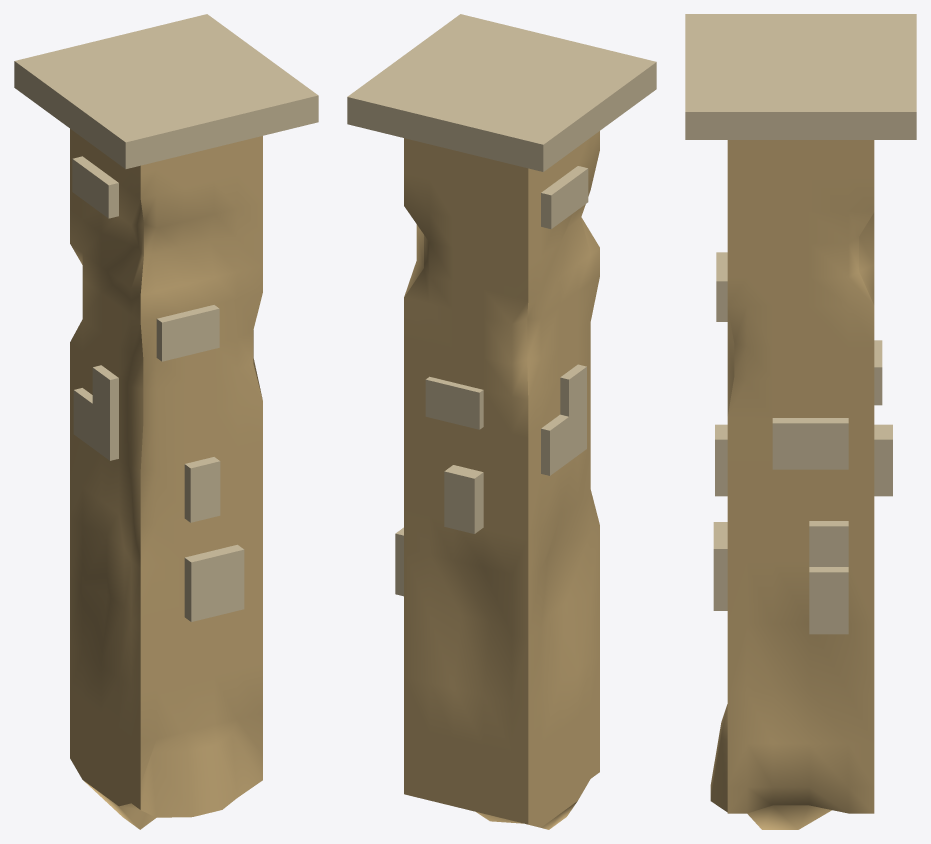
The model's file is Pillar_Raw.fbx.
The picture shows the model from 3 angles, left to right: view 1: azimuth 30°, elevation 25°; view 2: azimuth 150°, elevation 25°; view 3: azimuth 270°, elevation 25°; orthographic projection. The views are drawn at different scales.
Visible parts, largest first — view 1: pCube2; view 2: pCube2; view 3: pCube2.
Boxes of the visible parts, x1,y1,x2,y2 form: pCube2: (14, 14, 318, 829); pCube2: (347, 14, 656, 829); pCube2: (685, 14, 916, 829).
Size of the model in its own units: 1.58 by 5.68 by 1.58.
